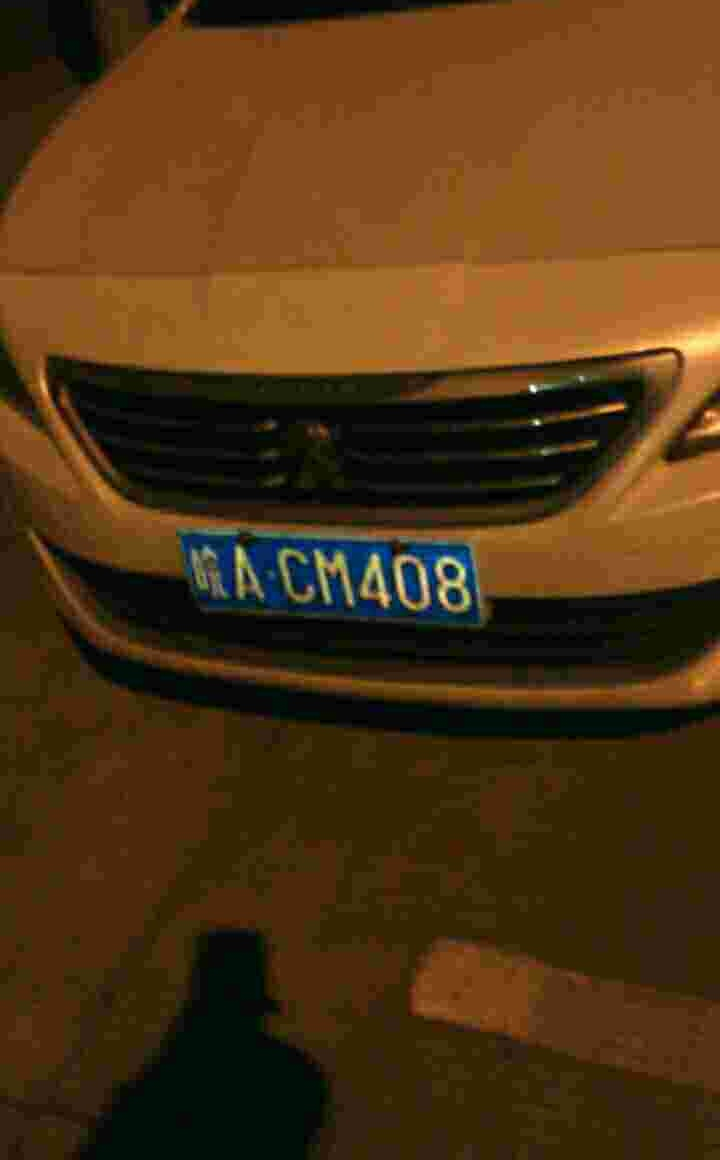license_plate: (177, 531, 481, 629)
